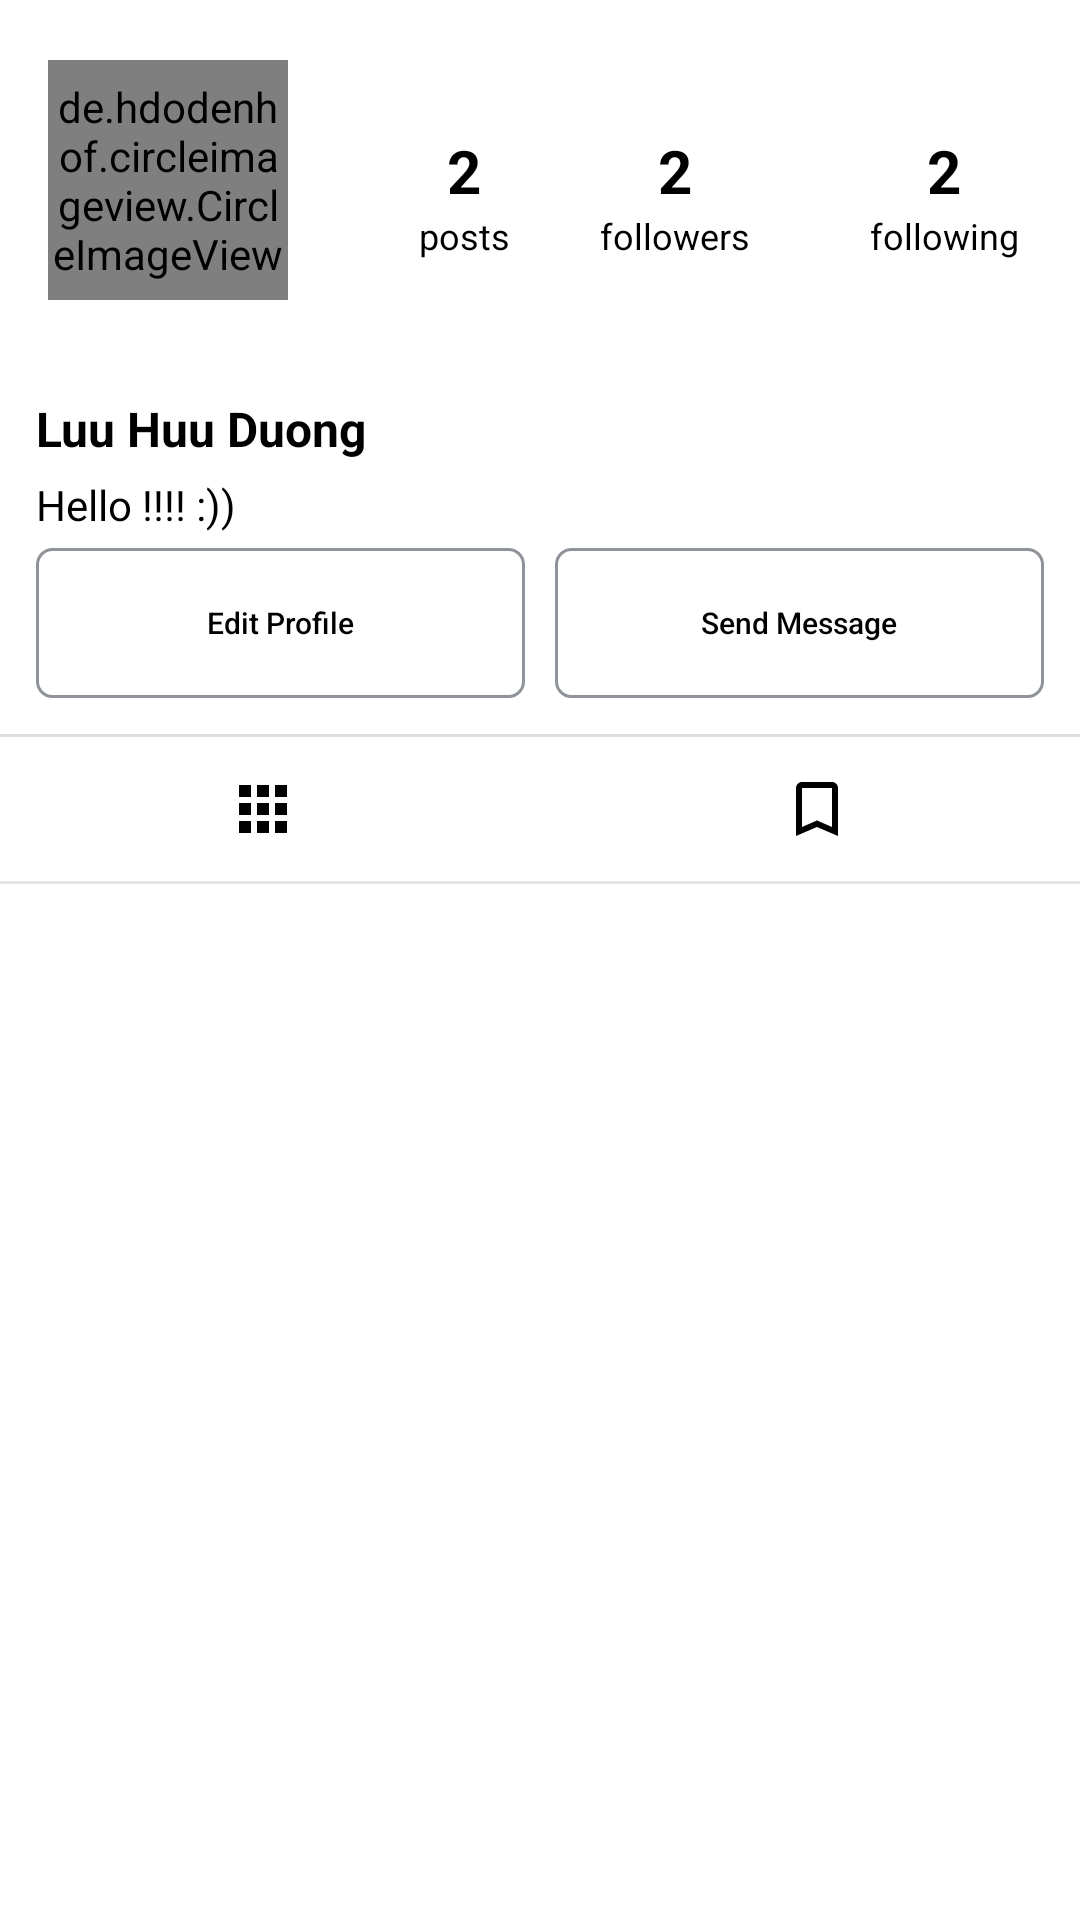

Named icons in this screenshot (1080x1920) and their centers, point (x, y):
pictures: point (263, 809)
save: point (817, 809)
